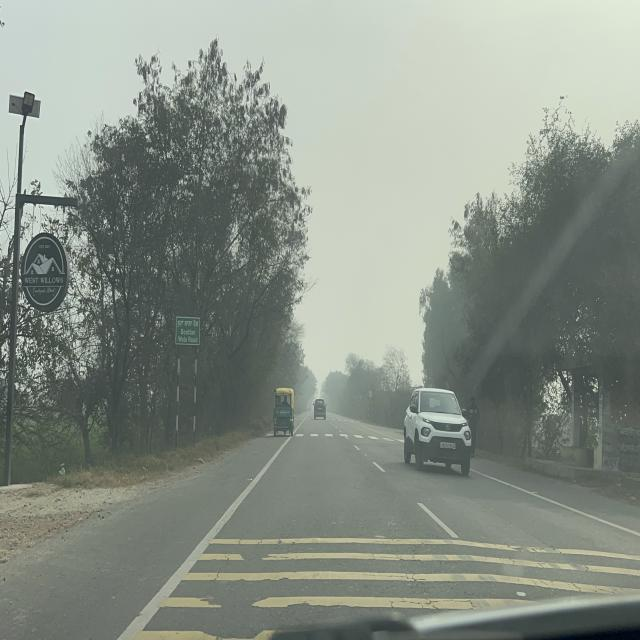GENERAL: (174, 316, 200, 348)
